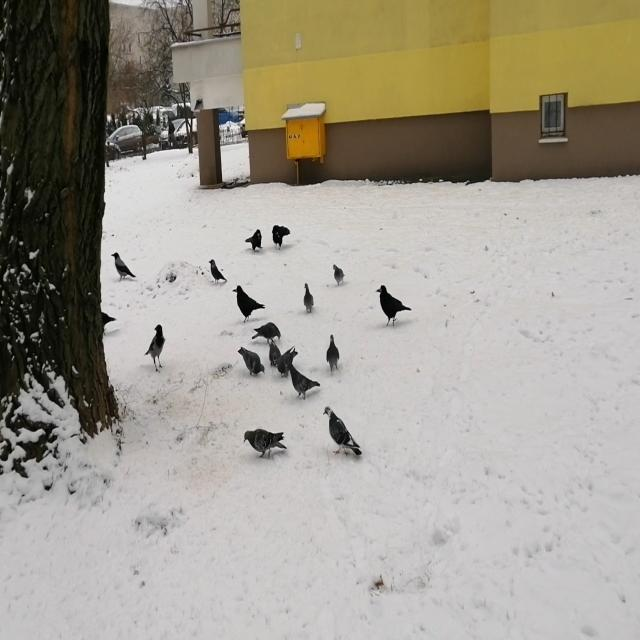bird: (323, 406, 362, 456), (376, 285, 412, 326), (286, 362, 321, 399), (244, 430, 286, 458), (233, 285, 264, 322), (147, 323, 165, 370), (238, 346, 264, 376), (111, 252, 136, 281), (252, 322, 281, 342), (276, 348, 296, 376), (326, 334, 339, 373), (332, 264, 344, 286), (304, 283, 312, 314), (270, 343, 280, 367)
